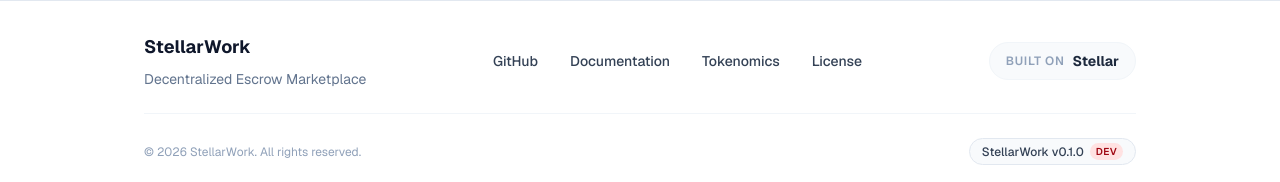
AppFooter version display › shows build tooltip on focus
This screenshot has width=1280, height=182.
Focus the button with aria-label "App version": [1052, 152] box [969,138,1136,165]
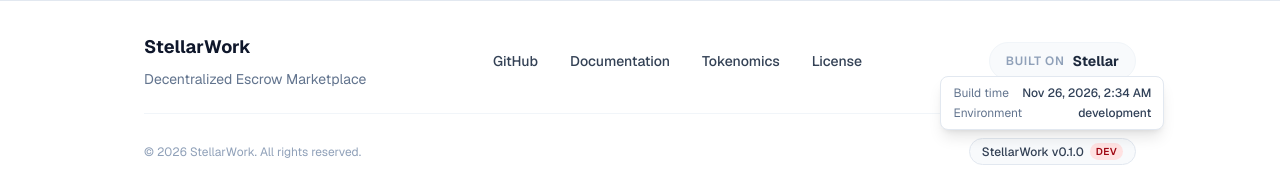
Result: the tooltip "Build time Nov 26, 2026, 2:34 AM Environment development" is shown at [940,76,1164,130]
